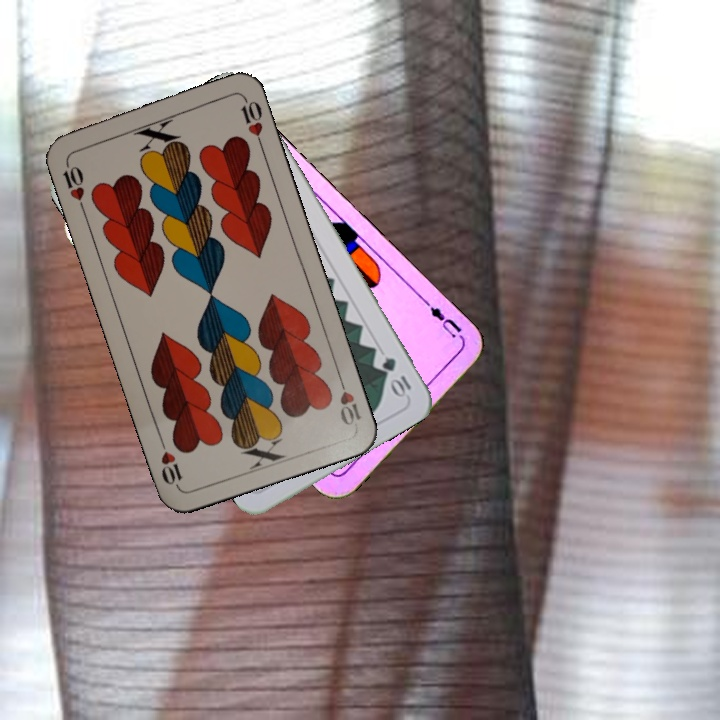EU: (422, 297, 468, 346)
G10: (378, 353, 414, 400)
H10: (58, 156, 88, 214), (334, 371, 364, 428)
